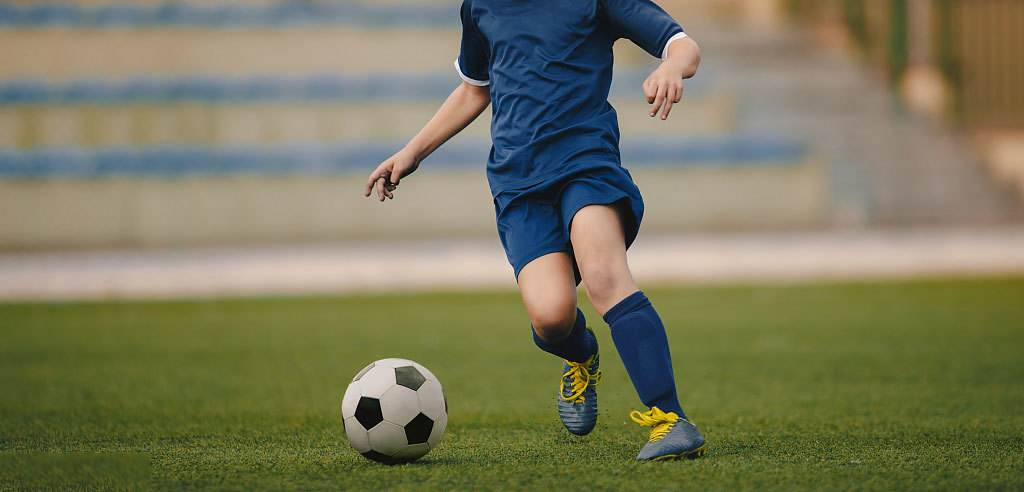football: (343, 356, 451, 465)
